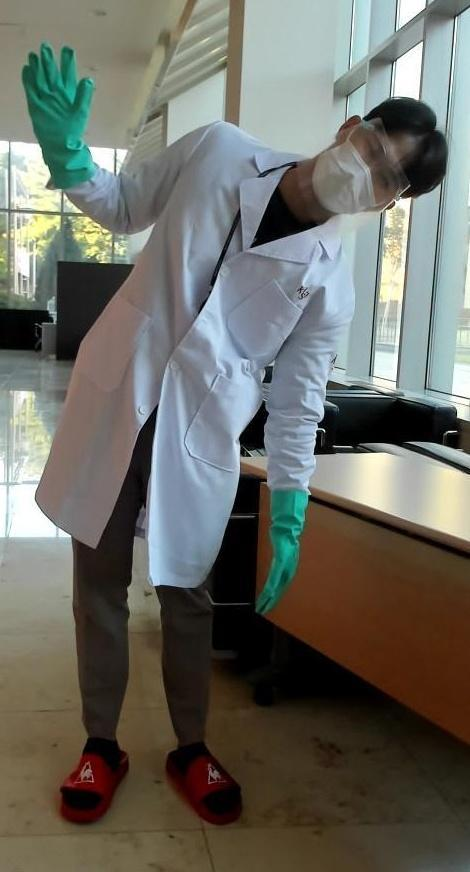lab_coat: (100, 122, 269, 572)
